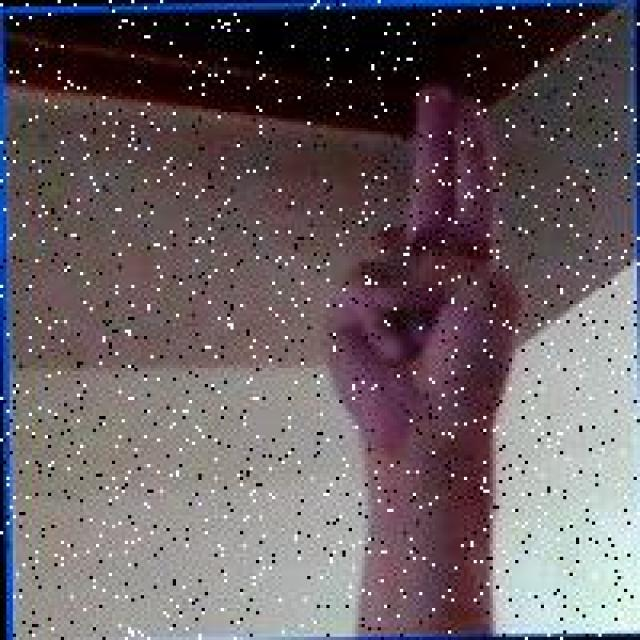U: (304, 72, 528, 459)
